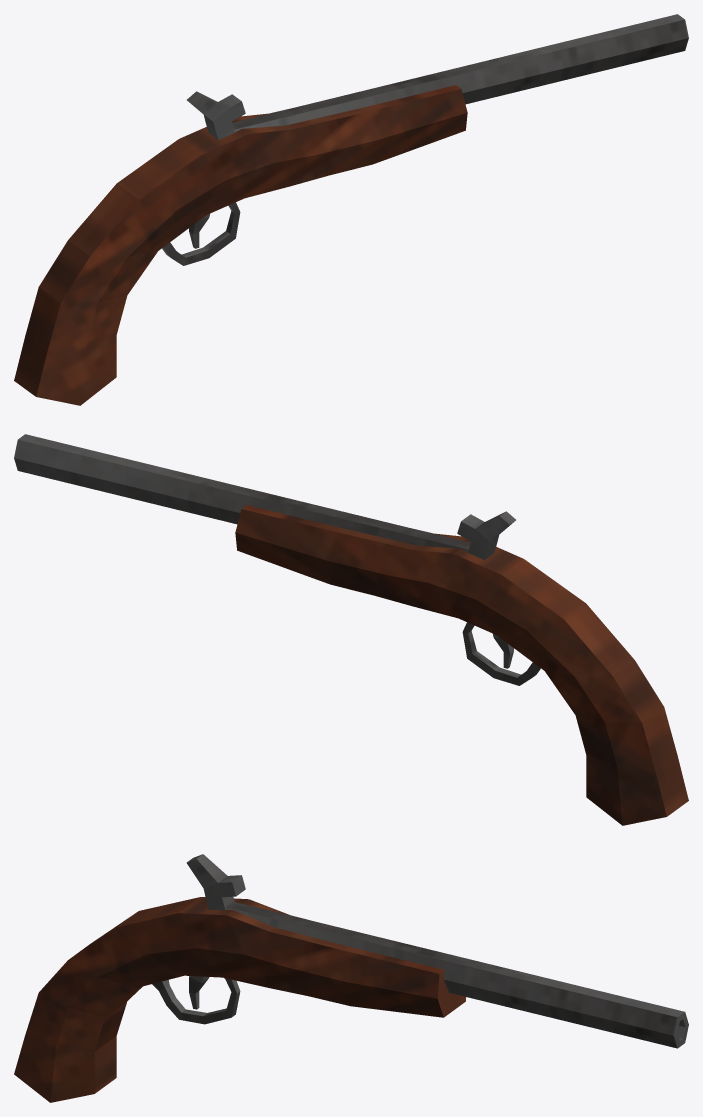
The model's file is SM_Pistol.fbx.
The picture shows the model from 3 angles, top to bottom: view 1: azimuth 30°, elevation 25°; view 2: azimuth 150°, elevation 25°; view 3: azimuth 330°, elevation 25°; orthographic projection.
Visible parts, largest first — view 1: SM_Pistol; view 2: SM_Pistol; view 3: SM_Pistol.
Part boxes in pixels (x1,y1,x2,y2): SM_Pistol: (14,14,688,405); SM_Pistol: (14,434,688,825); SM_Pistol: (14,854,688,1102).
Size of the model in its own units: 1.63 by 0.6353 by 0.129.
